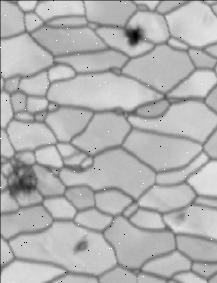good_void: (0, 150, 42, 198), (120, 20, 146, 48), (70, 232, 92, 258), (173, 210, 191, 225)
